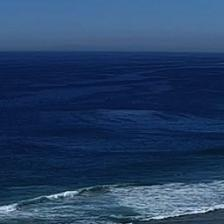surfer: (176, 173, 180, 176), (182, 172, 186, 175)
